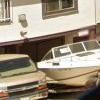Boat: (35, 36, 100, 90)
